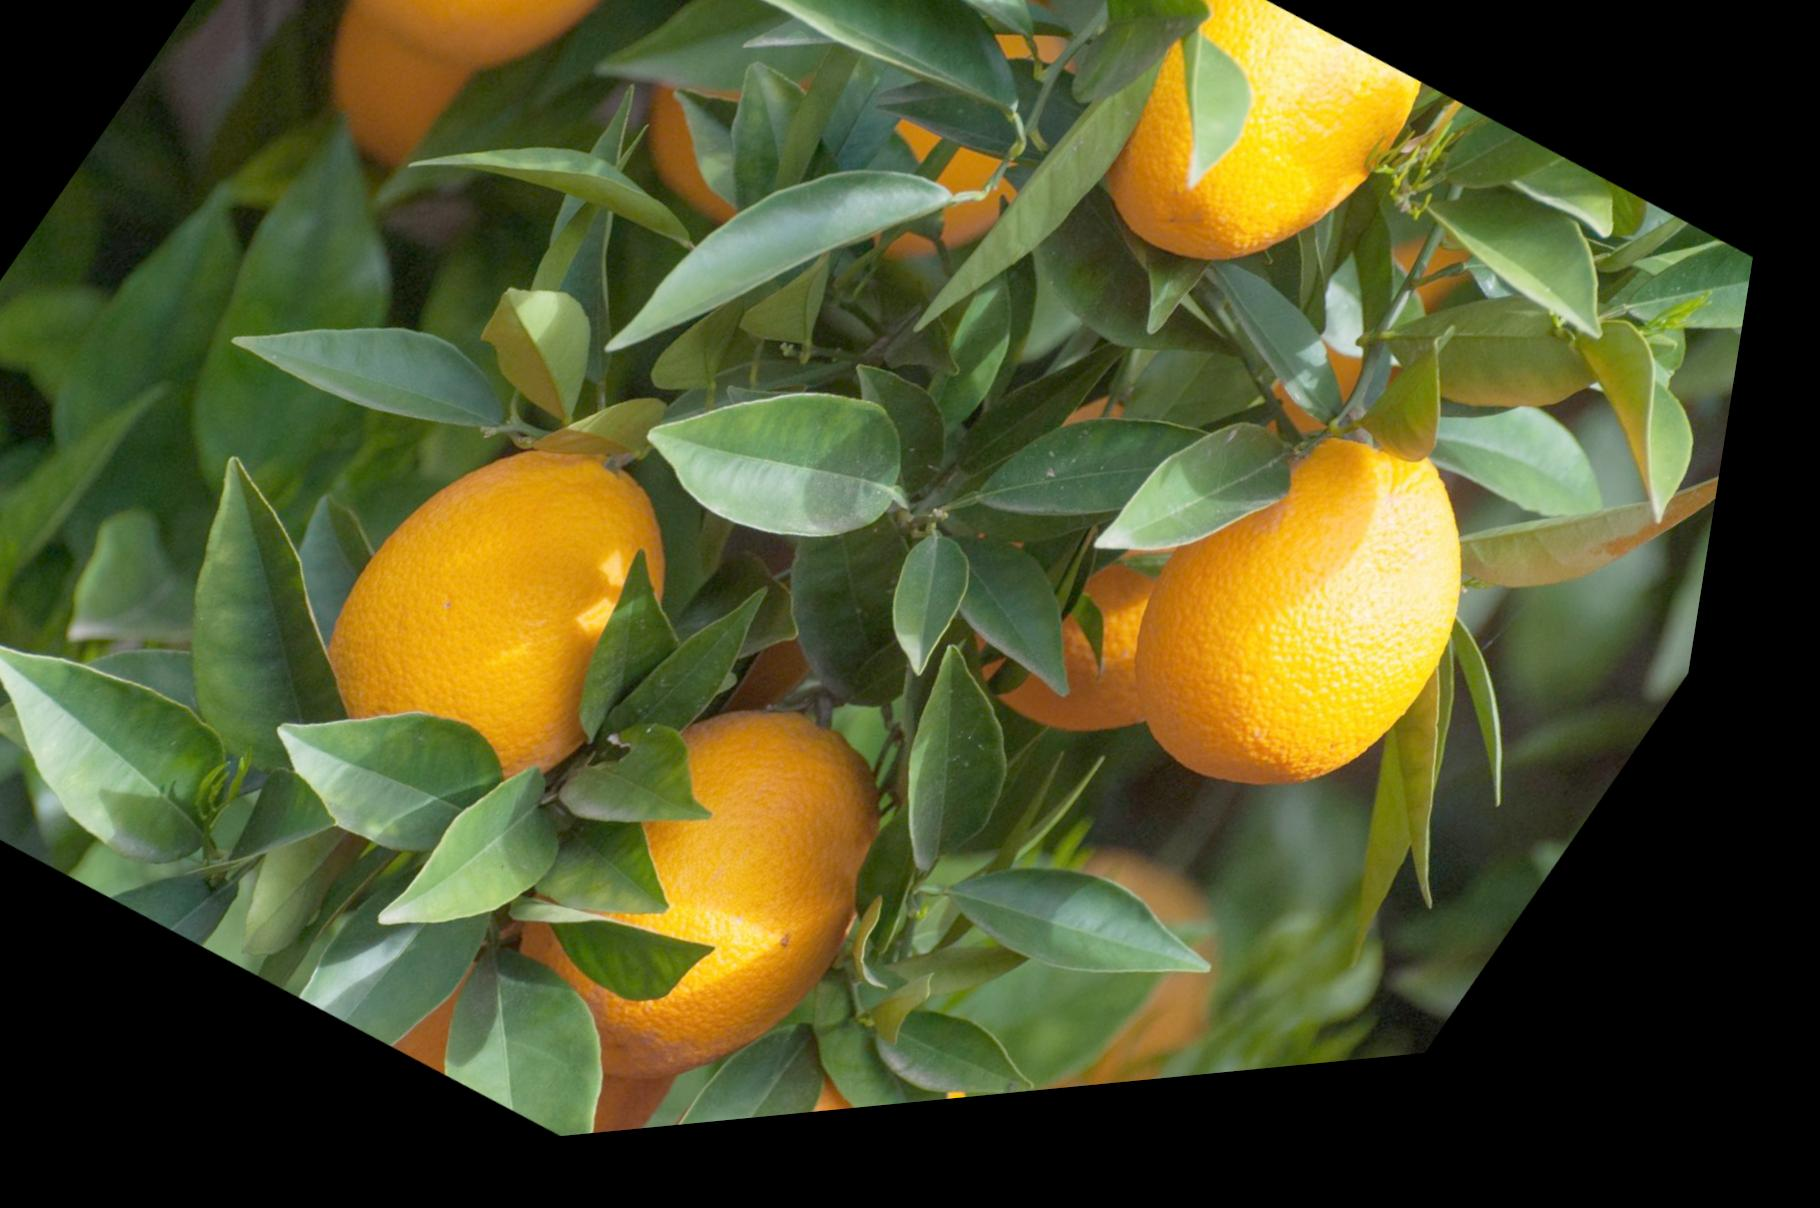Healthy Citrus: (605, 81, 1018, 488), (81, 434, 492, 818), (949, 325, 1348, 673), (620, 315, 976, 623), (928, 816, 1293, 1092), (214, 243, 570, 516), (0, 593, 310, 893), (689, 0, 1105, 193), (852, 655, 1105, 911), (456, 264, 670, 460), (1618, 248, 1773, 480), (768, 0, 1105, 94), (684, 1003, 902, 1145), (861, 533, 1035, 709), (890, 990, 1105, 1130), (688, 55, 866, 222)
